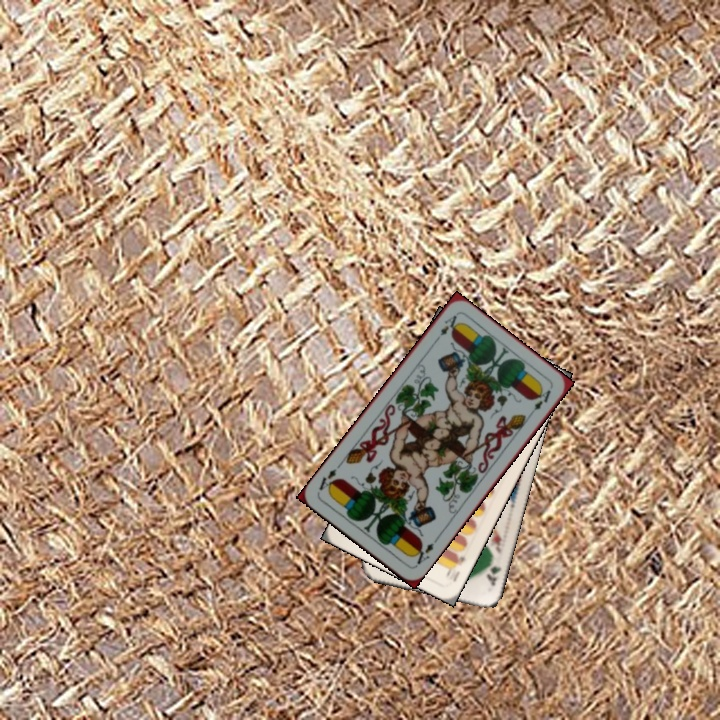E10: (441, 550, 468, 584)
EA: (409, 534, 441, 569), (430, 311, 462, 345)
GK: (483, 562, 504, 588)
